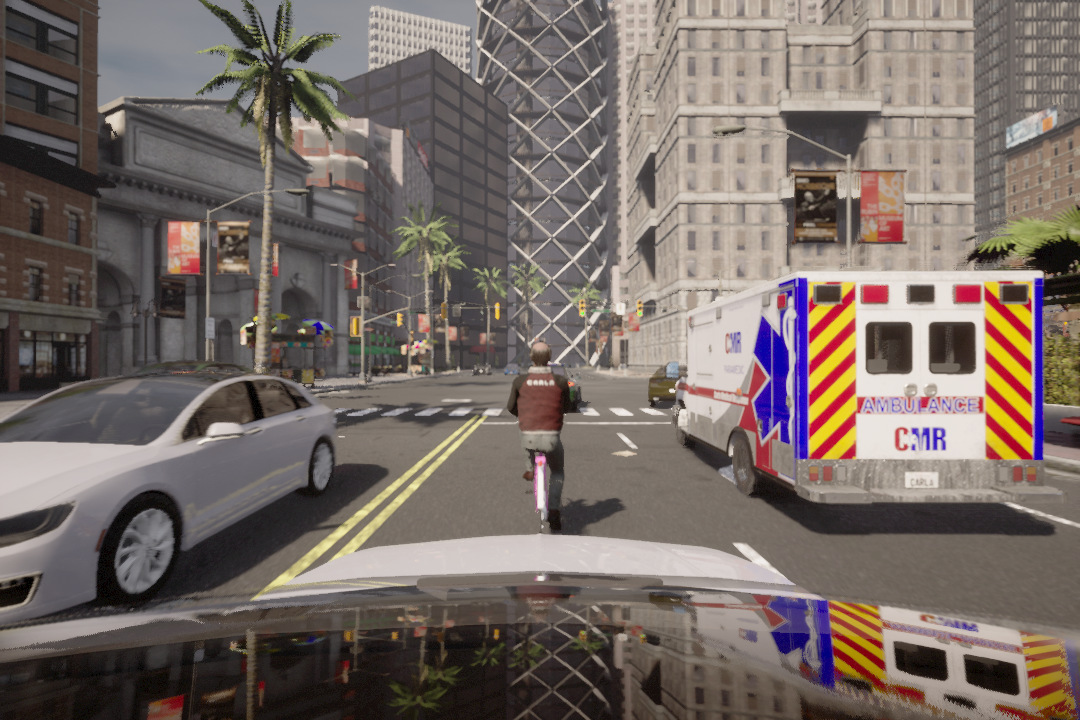TrafficLight: (634, 299, 645, 319), (577, 300, 588, 319)
walkside: (313, 399, 708, 421)
